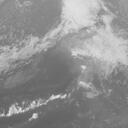cyclone: (36, 39, 104, 96)
